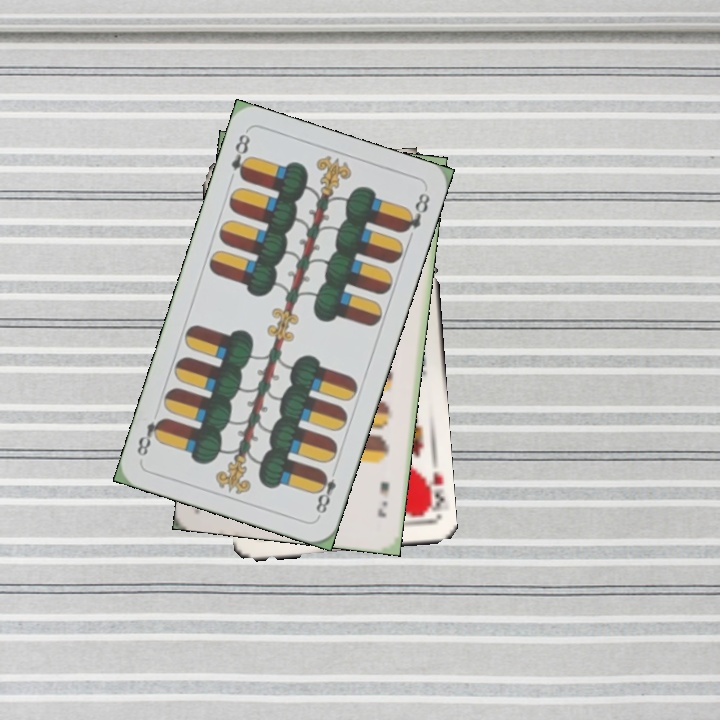E7: (374, 477, 391, 520)
E8: (311, 463, 340, 519), (227, 130, 254, 183)
HK: (417, 466, 447, 522)
